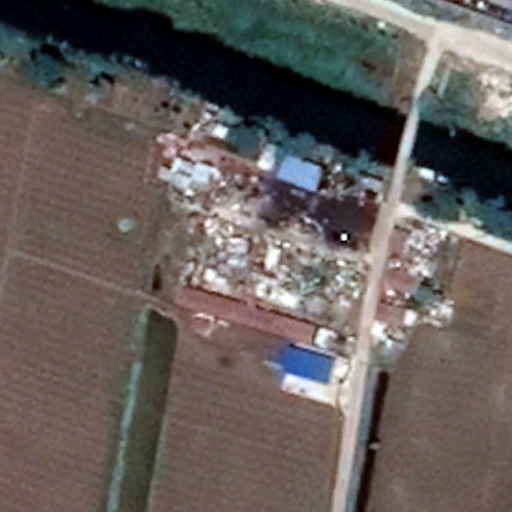msw: (184, 167, 363, 327), (371, 224, 452, 369)
